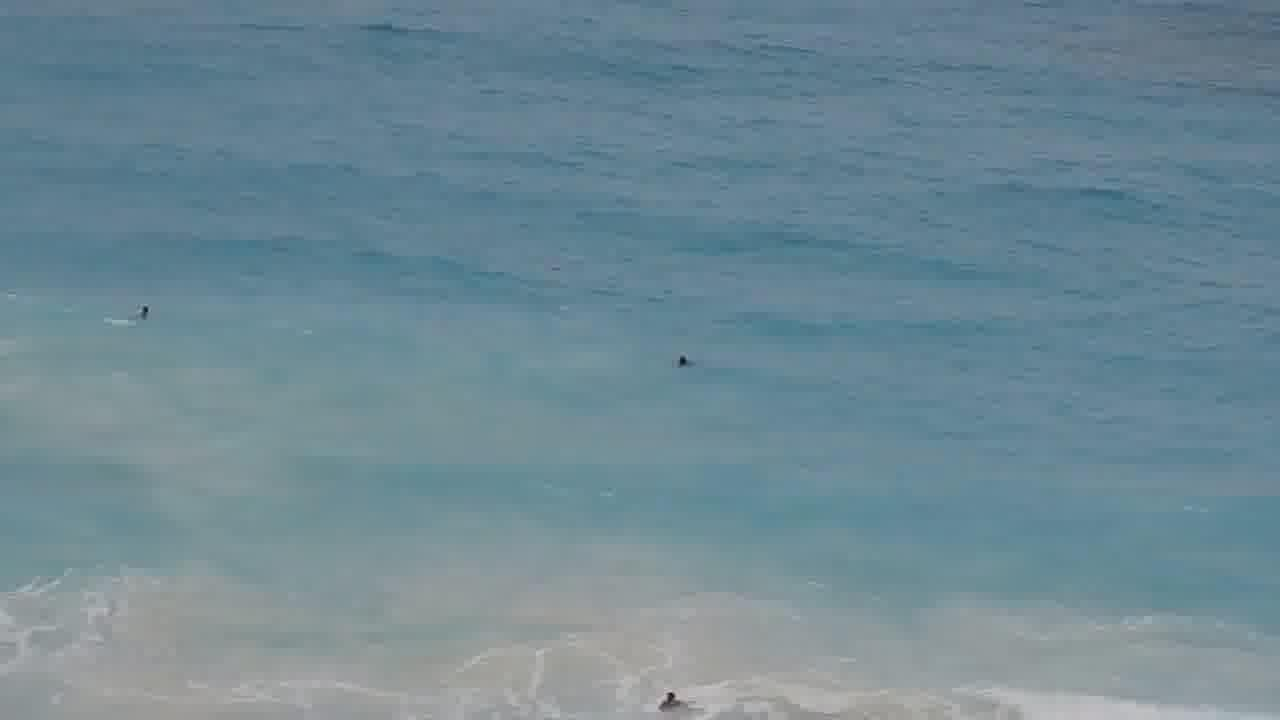human: (643, 674, 707, 714), (119, 294, 176, 323), (656, 345, 710, 371)
